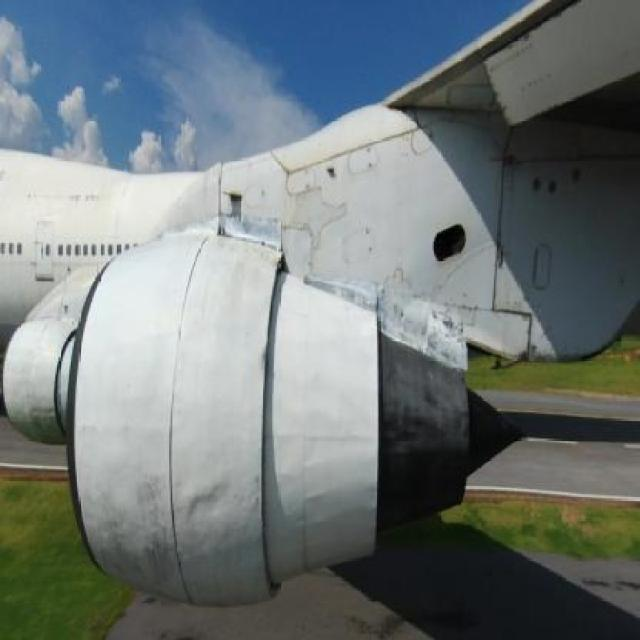Scartch: (128, 458, 183, 590)
